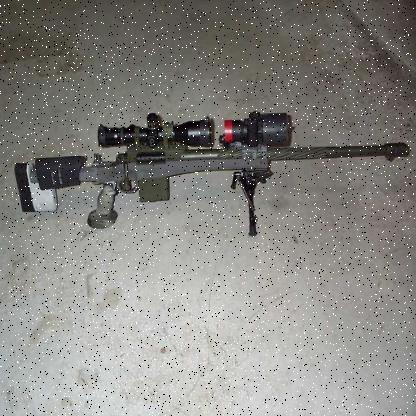rifle: (17, 88, 414, 265)
